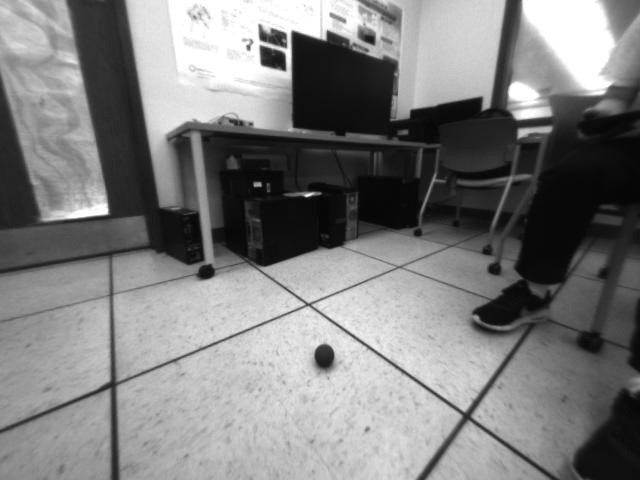dogtoy: (311, 340, 340, 374)
